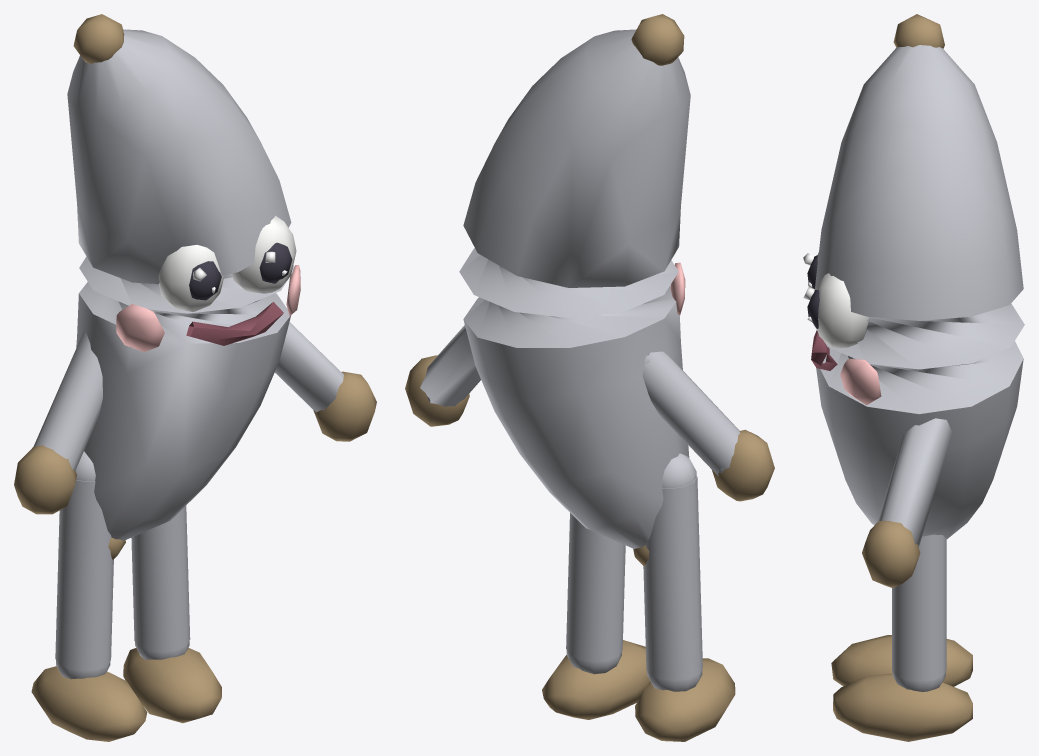
The model's file is Banana.fbx.
3 renders of one model, left to right at view 1: azimuth 30°, elevation 25°; view 2: azimuth 150°, elevation 25°; view 3: azimuth 270°, elevation 25°, orthographic. The views are drawn at different scales.
Visible parts, largest first — view 1: EX_Banana; view 2: EX_Banana; view 3: EX_Banana.
Part boxes in pixels (left/top/right/bottom): EX_Banana: left=14, top=14, right=376, bottom=741; EX_Banana: left=405, top=14, right=774, bottom=741; EX_Banana: left=803, top=14, right=1024, bottom=741.
Size of the model in its own units: 126 by 238 by 69.62.
